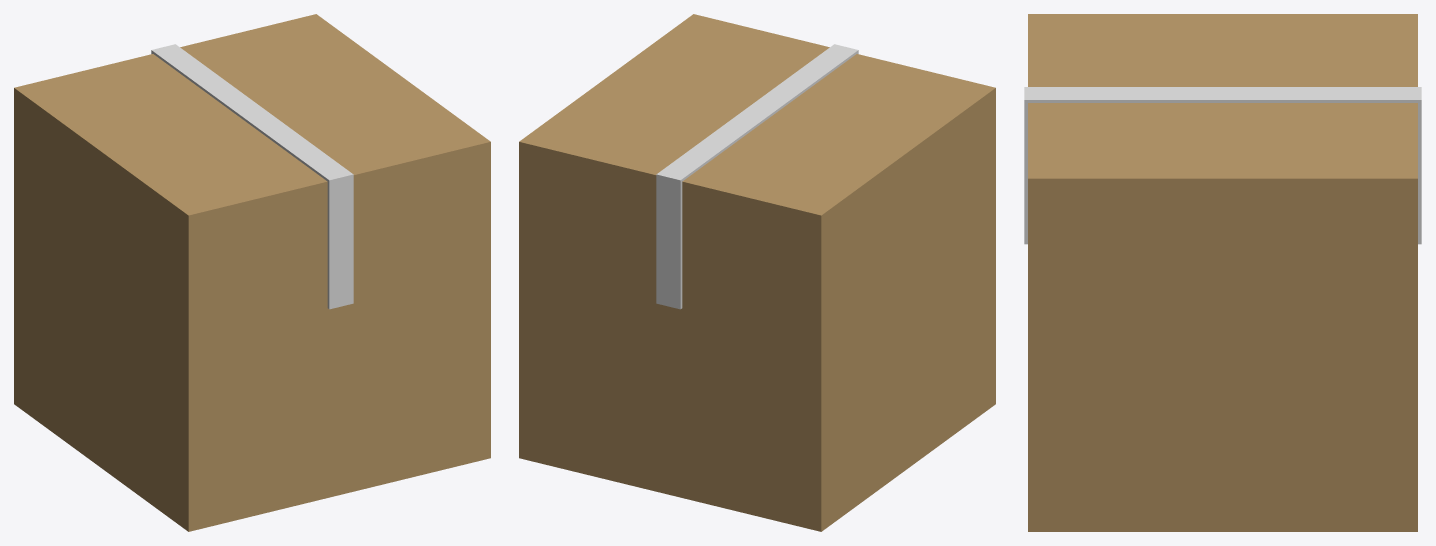
The model's file is Cardboard Box.fbx.
The picture shows the model from 3 angles, left to right: view 1: azimuth 30°, elevation 25°; view 2: azimuth 150°, elevation 25°; view 3: azimuth 270°, elevation 25°; orthographic projection. The views are drawn at different scales.
Parts seen in each view (by area): view 1: Cardboard Box, Lid 2, Lid 1, Tape, Lid 3, Lid 4; view 2: Cardboard Box, Lid 2, Lid 1, Tape, Lid 4, Lid 3; view 3: Cardboard Box, Lid 1, Lid 2, Tape, Lid 3.
Part boxes in pixels (left/top/right/bottom): Cardboard Box: left=14, top=100, right=490, bottom=531; Lid 2: left=14, top=54, right=327, bottom=227; Lid 1: left=180, top=14, right=490, bottom=187; Tape: left=151, top=44, right=353, bottom=309; Lid 3: left=103, top=148, right=490, bottom=227; Lid 4: left=14, top=94, right=99, bottom=162; Cardboard Box: left=519, top=100, right=995, bottom=531; Lid 2: left=682, top=54, right=995, bottom=226; Lid 1: left=519, top=14, right=829, bottom=187; Tape: left=656, top=44, right=858, bottom=309; Lid 4: left=682, top=159, right=906, bottom=227; Lid 3: left=910, top=94, right=995, bottom=162; Cardboard Box: left=1028, top=193, right=1417, bottom=531; Lid 1: left=1028, top=103, right=1417, bottom=192; Lid 2: left=1028, top=14, right=1417, bottom=86; Tape: left=1024, top=87, right=1421, bottom=244; Lid 3: left=1028, top=185, right=1218, bottom=192.
Size of the model in its own units: 5 by 5.04 by 5.1.
